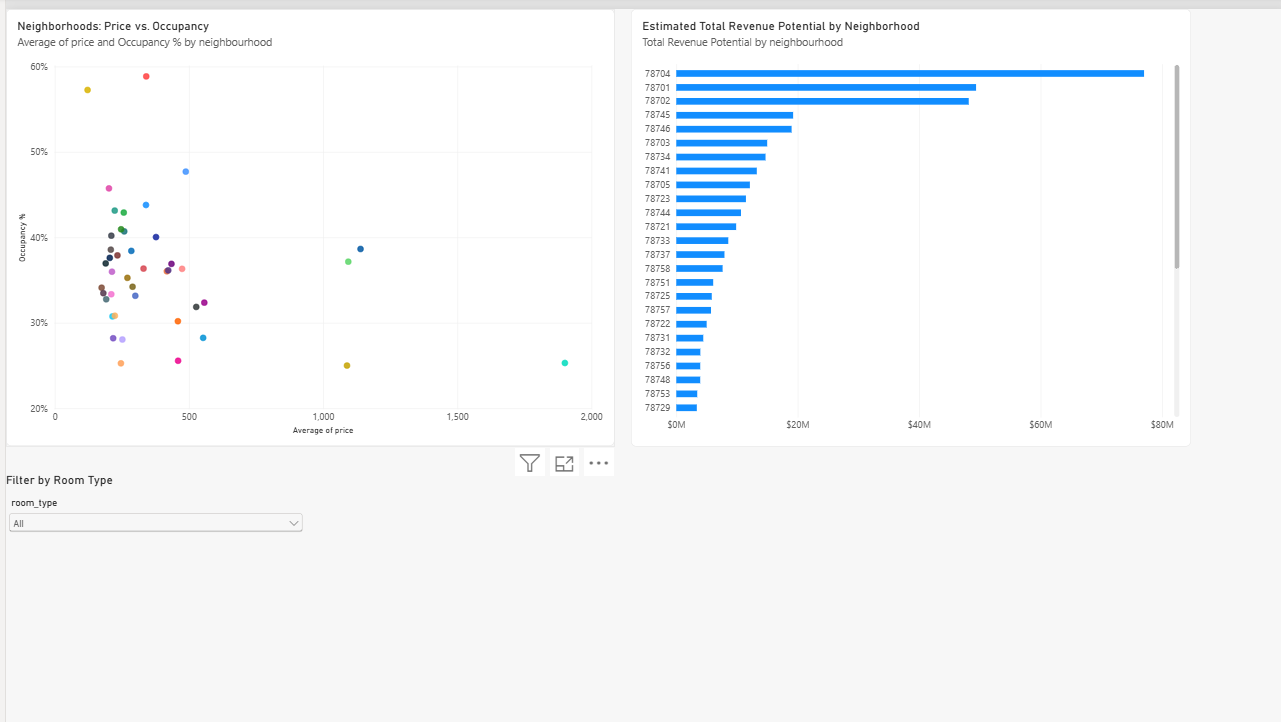

This screenshot's page, from the dashboard's own definition file:
{"tool":"powerbi","page":{"name":"Price vs. Occupancy","canvas":[1920,1080],"ordinal":3},"visuals":[{"type":"scatterChart","title":"Neighborhoods: Price vs. Occupancy","fields":{"Series":["public listings_clean.neighbourhood"],"X":["Avg(public listings_clean.price)"],"Y":["public calendar_clean.Occupancy %"]},"box":[69.1,40.5,910.9,654.4],"z":0},{"type":"clusteredBarChart","title":"Estimated Total Revenue Potential by Neighborhood","fields":{"Category":["public listings_clean.neighbourhood"],"Y":["public listings_clean.Total Revenue Potential"]},"box":[1013.8,40.5,838.5,655.1],"z":1000},{"type":"slicer","title":"Filter by Room Type","fields":{"Values":["public listings_clean.room_type"]},"box":[69.1,731.1,436.1,296.8],"z":1001}]}

Visuals, with their boxes in screenshot pixels (x1, y1, x2, y2), scaled from the page's 1920x1080 canvas onto the 1281x722 screenshot:
"Neighborhoods: Price vs. Occupancy" scatterChart: bbox=(46, 27, 654, 465)
"Estimated Total Revenue Potential by Neighborhood" clusteredBarChart: bbox=(676, 27, 1236, 465)
"Filter by Room Type" slicer: bbox=(46, 489, 337, 687)
